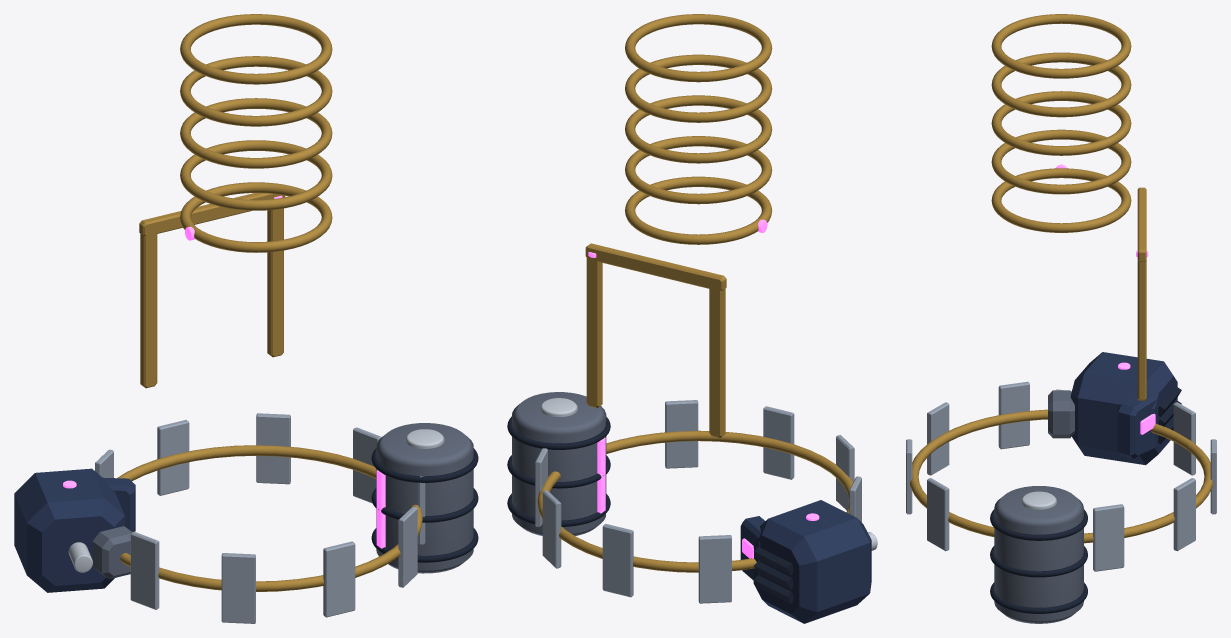
The model's file is tower_arc_rate_s8.glb.
The picture shows the model from 3 angles, left to right: view 1: azimuth 30°, elevation 25°; view 2: azimuth 150°, elevation 25°; view 3: azimuth 270°, elevation 25°; orthographic projection. The views are drawn at different scales.
Parts seen in each view (by area): view 1: arc_generator, arc_supercap, arc_coolant_loop, arc_winding_b4, arc_winding_b3, arc_winding_b1, arc_winding_b2, arc_winding_b0, arc_bus_bar_r, arc_base_fin8, arc_bus_bar_l, arc_base_fin7 (+13 smaller); view 2: arc_generator, arc_supercap, arc_coolant_loop, arc_winding_b4, arc_winding_b3, arc_winding_b1, arc_winding_b2, arc_winding_b0, arc_bus_bar_r, arc_bus_bar_l, arc_bus_bridge, arc_base_fin1 (+13 smaller); view 3: arc_supercap, arc_generator, arc_coolant_loop, arc_winding_b4, arc_winding_b1, arc_winding_b3, arc_winding_b0, arc_winding_b2, arc_base_fin4, arc_meter_box, arc_base_fin9, arc_base_fin3 (+13 smaller).
Part boxes in pixels (x1,y1,x2,y2): arc_generator: (14, 468, 124, 592); arc_supercap: (376, 423, 473, 573); arc_coolant_loop: (117, 445, 422, 591); arc_winding_b4: (180, 14, 332, 84); arc_winding_b3: (180, 56, 332, 126); arc_winding_b1: (180, 140, 332, 210); arc_winding_b2: (180, 98, 332, 168); arc_winding_b0: (180, 182, 332, 252); arc_bus_bar_r: (140, 231, 157, 388); arc_base_fin8: (221, 553, 255, 623); arc_bus_bar_l: (267, 208, 283, 357); arc_base_fin7: (323, 541, 355, 617); arc_generator: (753, 500, 871, 623); arc_supercap: (512, 392, 606, 535); arc_coolant_loop: (537, 430, 853, 572); arc_winding_b4: (625, 14, 772, 82); arc_winding_b3: (625, 54, 772, 122); arc_winding_b1: (625, 136, 772, 204); arc_winding_b2: (625, 95, 772, 163); arc_winding_b0: (625, 176, 772, 244); arc_bus_bar_r: (709, 285, 725, 437); arc_bus_bar_l: (586, 256, 602, 407); arc_bus_bridge: (585, 243, 726, 290); arc_base_fin1: (698, 535, 731, 603); arc_supercap: (994, 486, 1083, 623); arc_generator: (1070, 352, 1177, 465); arc_coolant_loop: (909, 409, 1213, 543); arc_winding_b4: (991, 14, 1131, 78); arc_winding_b1: (991, 129, 1131, 194); arc_winding_b3: (991, 52, 1131, 117); arc_winding_b0: (991, 168, 1131, 232); arc_winding_b2: (991, 91, 1131, 155); arc_base_fin4: (1093, 504, 1124, 571); arc_meter_box: (1117, 396, 1158, 458); arc_base_fin9: (998, 381, 1029, 449); arc_base_fin3: (1173, 478, 1195, 551).
Size of the model in its own units: 1.92 by 2.46 by 1.39.
